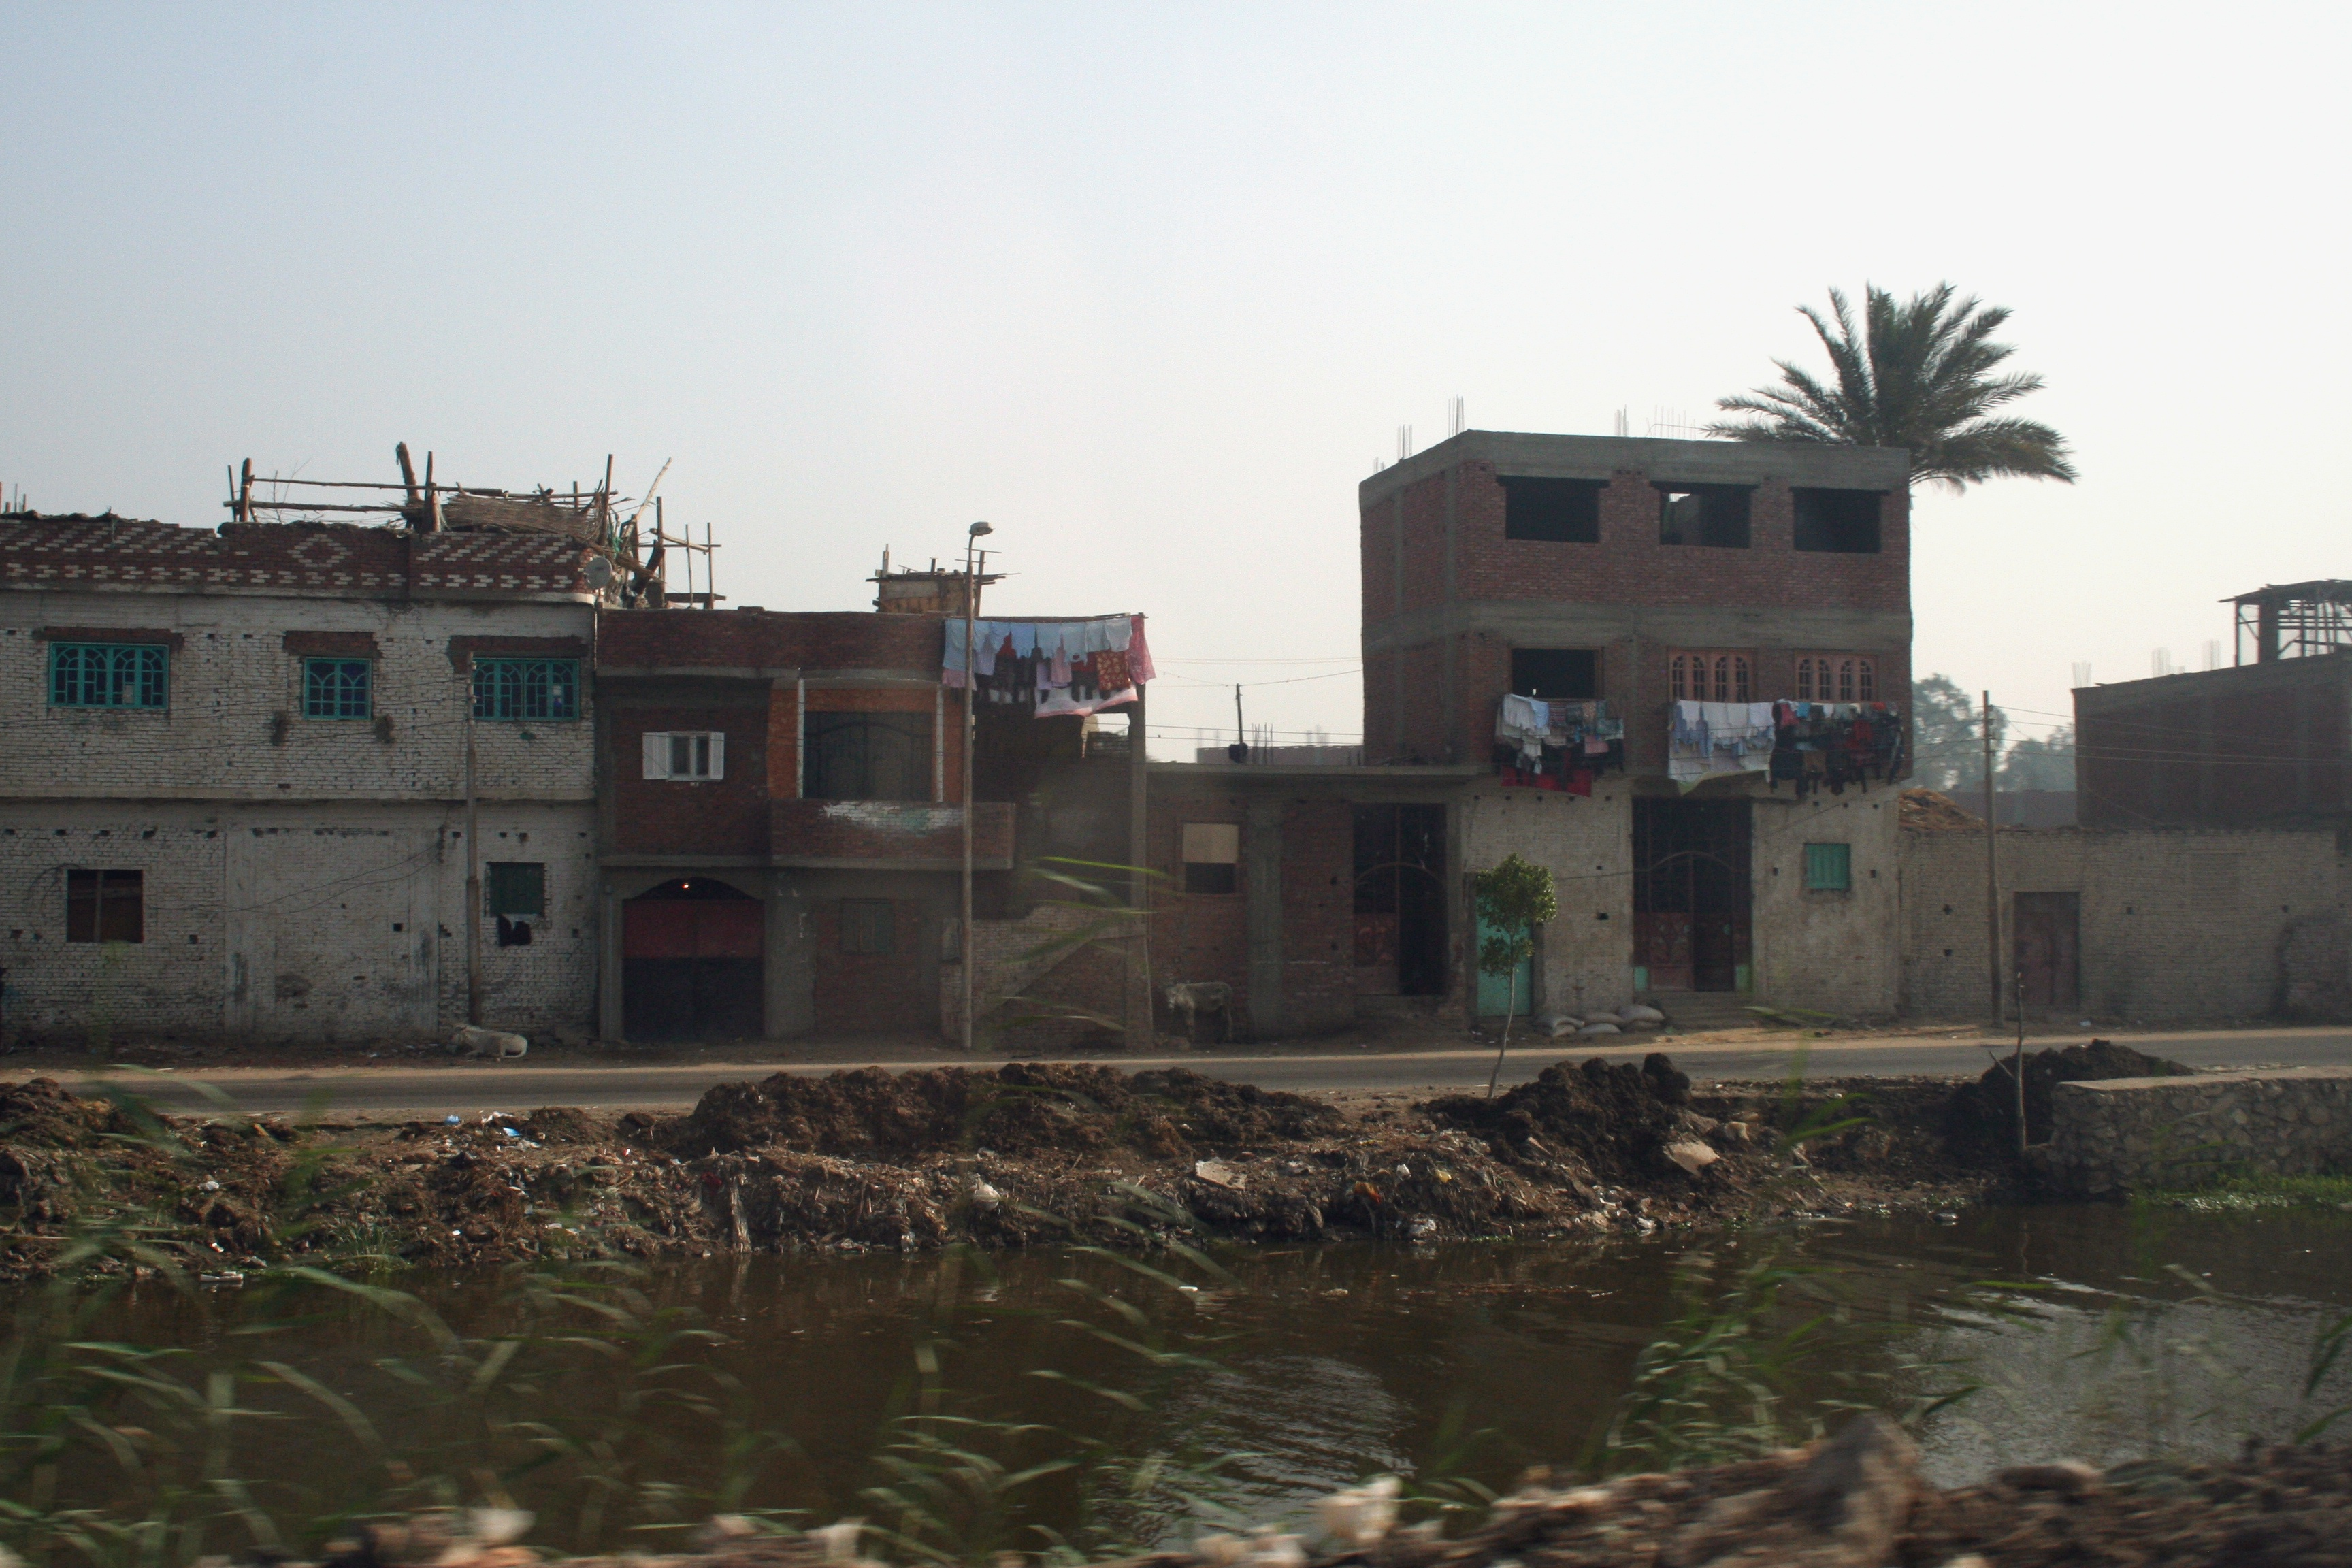building: (0, 462, 602, 1048), (1367, 399, 1922, 1031), (607, 527, 1040, 1050), (1906, 786, 2352, 1033), (984, 728, 1263, 1050)
sky: (0, 4, 1750, 424), (602, 0, 2352, 420), (602, 410, 1353, 572)
tree: (1739, 222, 2086, 499)
water: (70, 1229, 2352, 1489)
